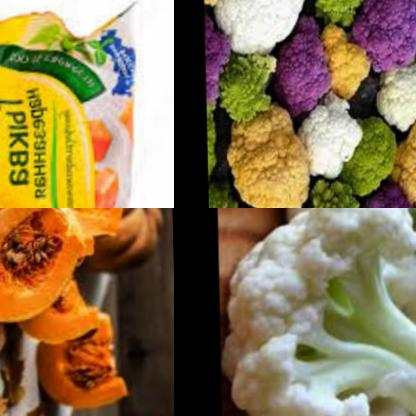cayliflower: (223, 208, 416, 416), (220, 94, 309, 208), (209, 0, 311, 66), (340, 112, 410, 203), (294, 97, 362, 186), (219, 47, 289, 125), (312, 22, 374, 101), (353, 0, 416, 77), (376, 62, 416, 141), (204, 16, 236, 114), (384, 116, 416, 208), (294, 176, 365, 208), (301, 0, 374, 29), (348, 183, 416, 208), (205, 173, 240, 208)
pumpkin: (0, 208, 90, 329), (32, 308, 126, 416), (76, 208, 169, 282), (15, 286, 100, 359), (21, 208, 132, 262), (72, 121, 116, 172)
